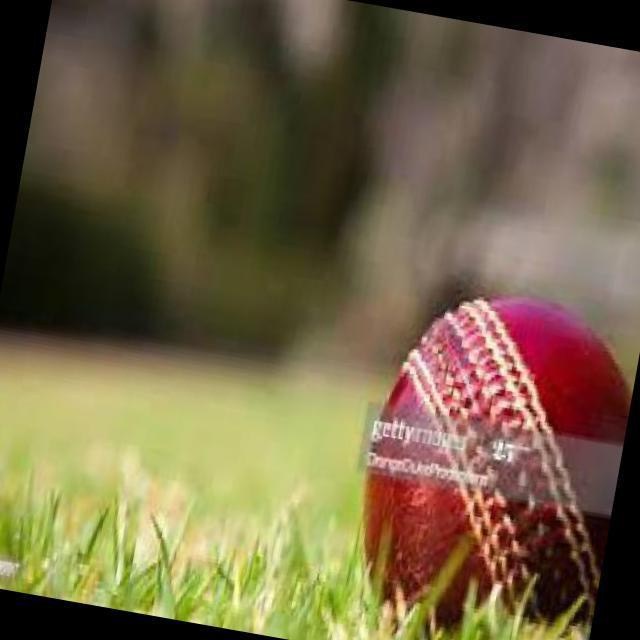-: (353, 281, 640, 640)
